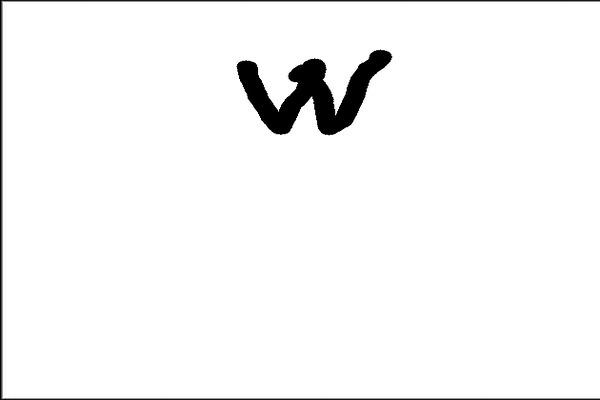w: (219, 42, 403, 156)
